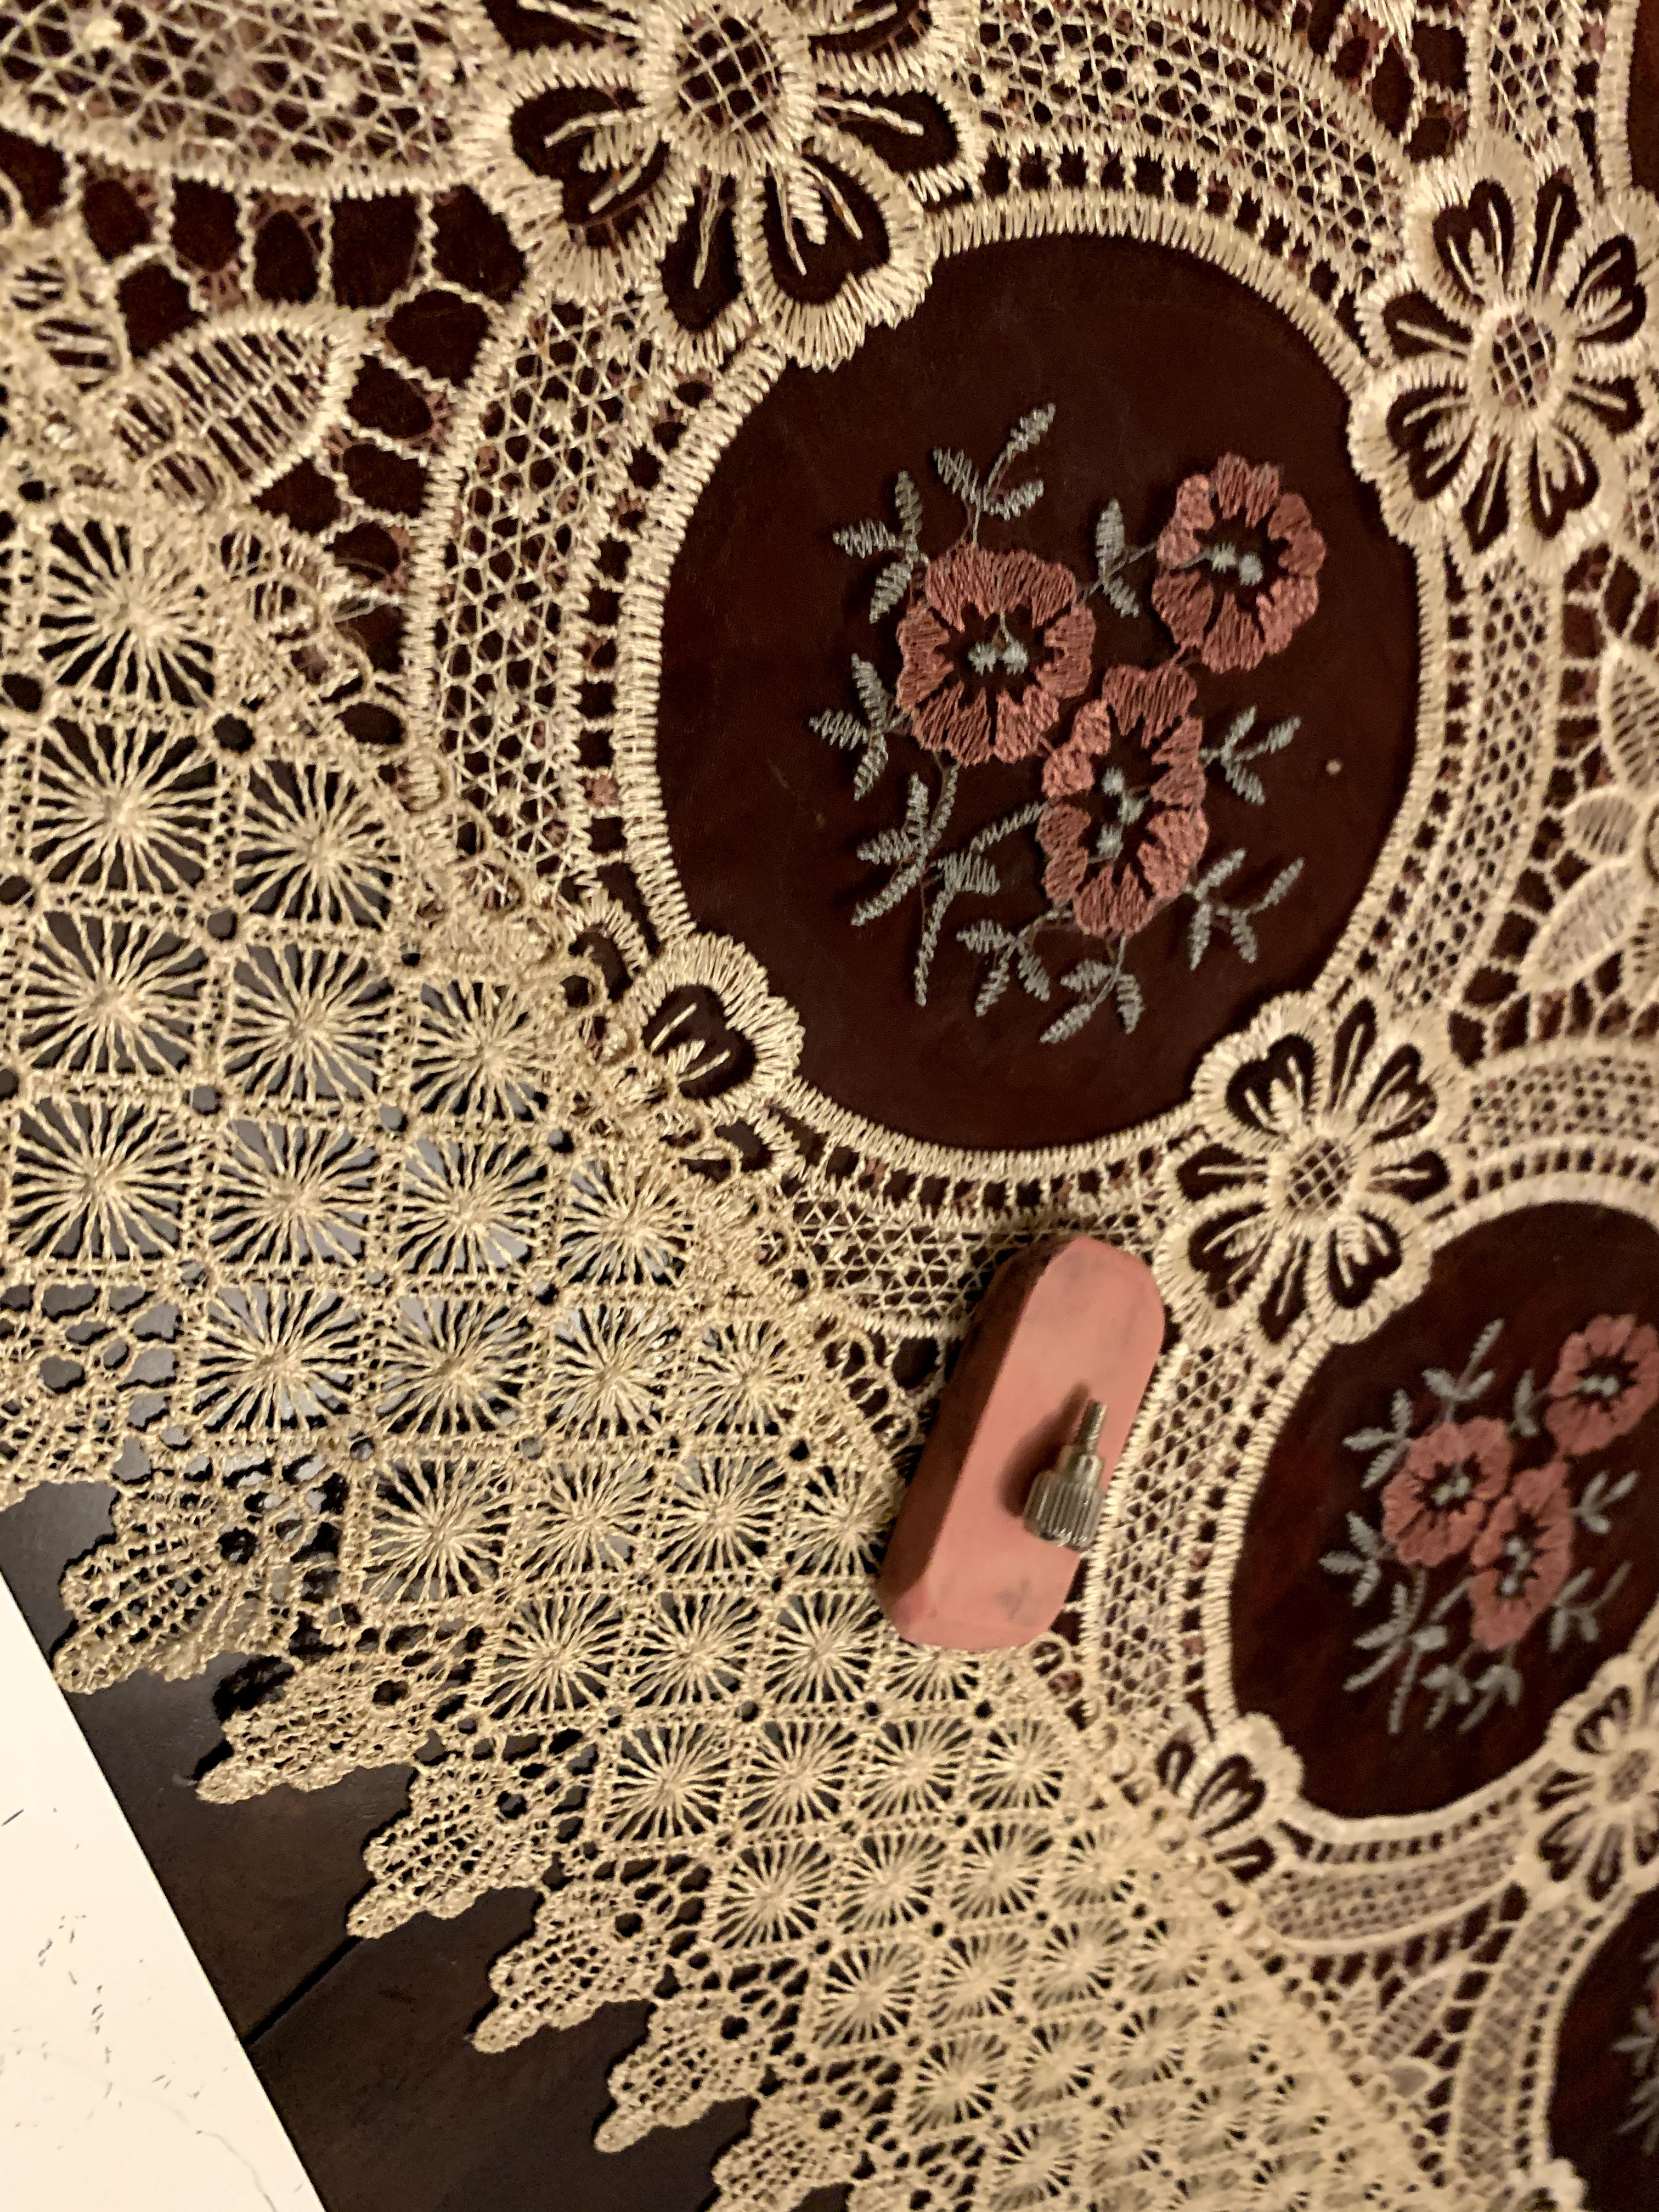Space-debris-small: (1023, 1379, 1124, 1561)
